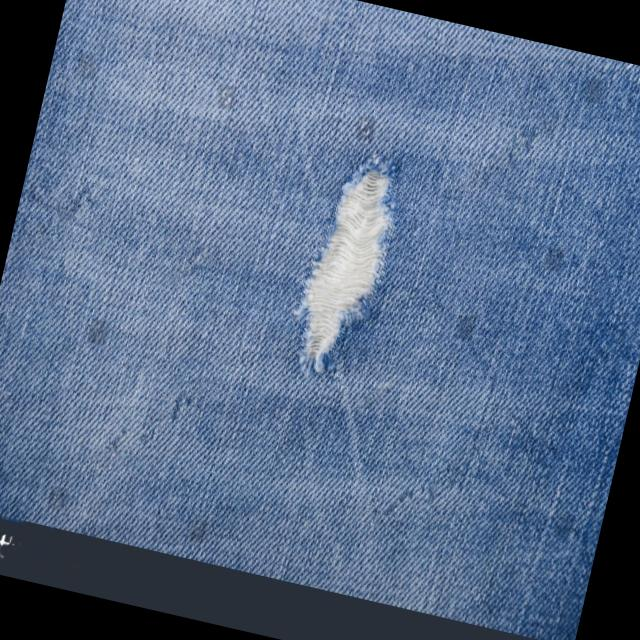cut: (284, 151, 410, 377)
